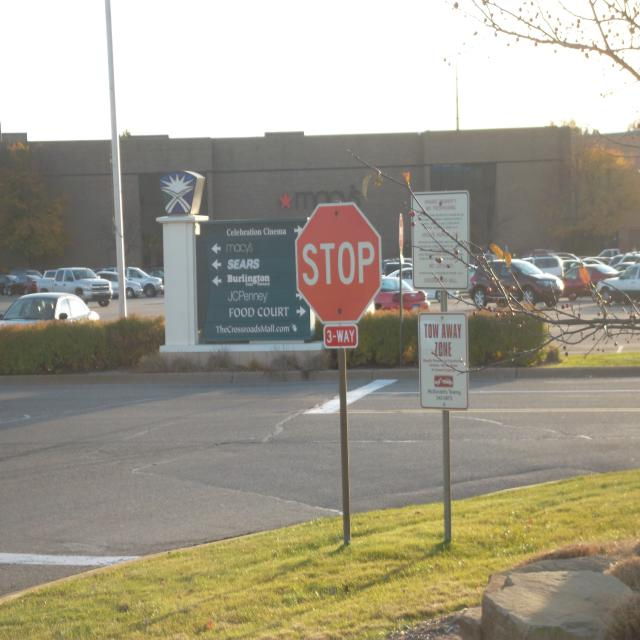stop: (290, 193, 384, 330)
